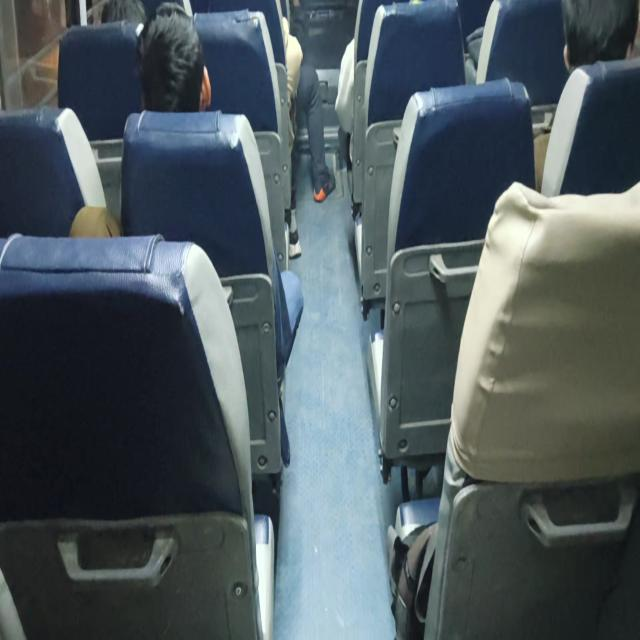person: (542, 0, 639, 66), (151, 27, 210, 121), (95, 0, 173, 31)
